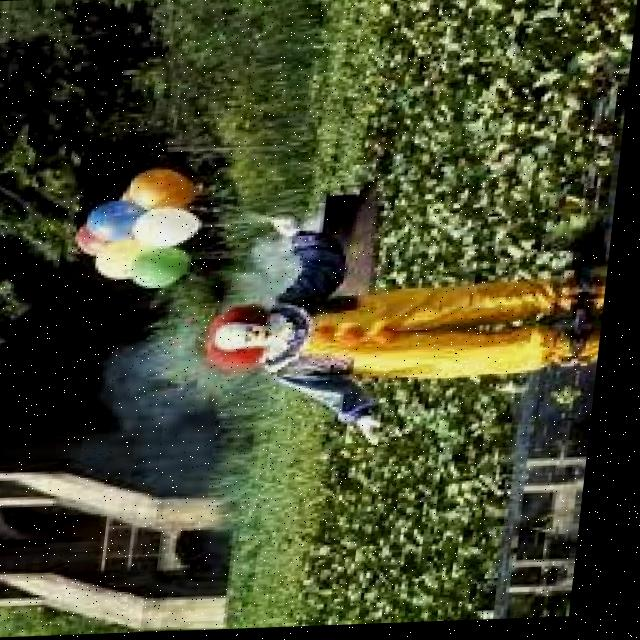balloon: (133, 167, 202, 210), (139, 210, 208, 246), (136, 248, 195, 287), (92, 201, 149, 240), (100, 239, 149, 276), (77, 222, 113, 257), (122, 189, 143, 201)
